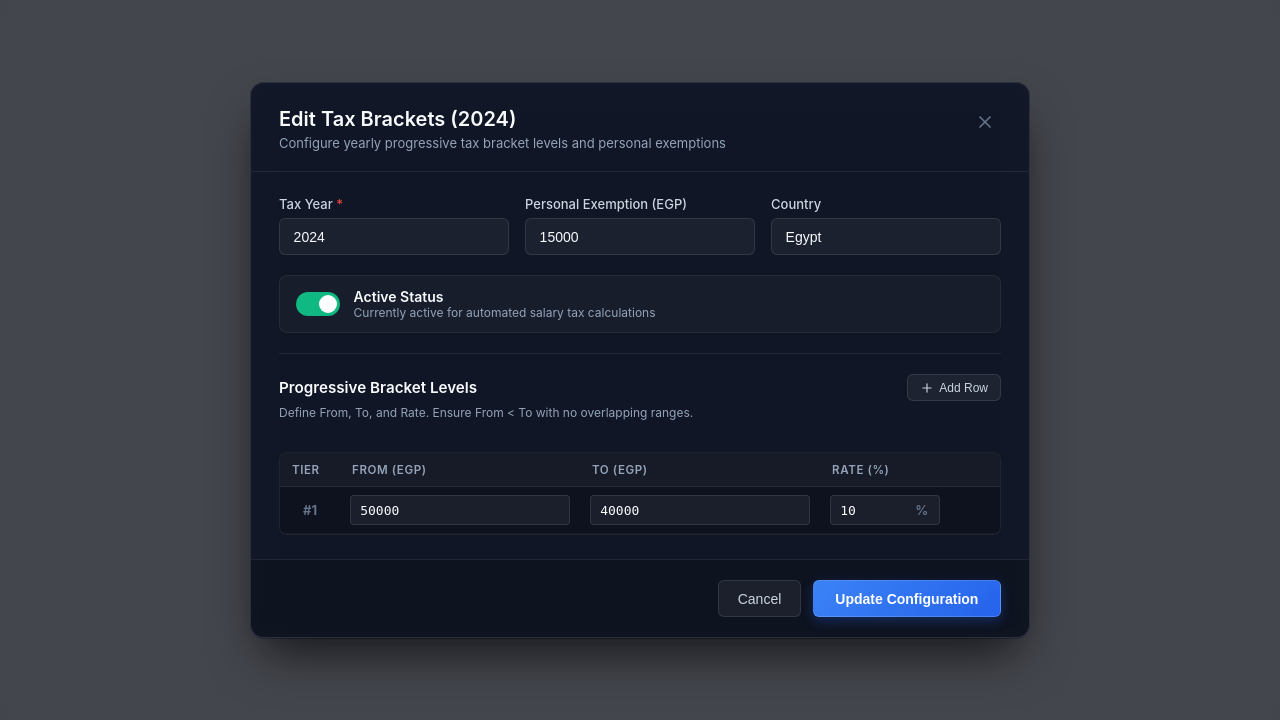
Test: TaxConfigModal Component › validates that To is greater than From
Click the button "Update Configuration" at (907,599), box x1=813 y1=580 x2=1001 y2=618
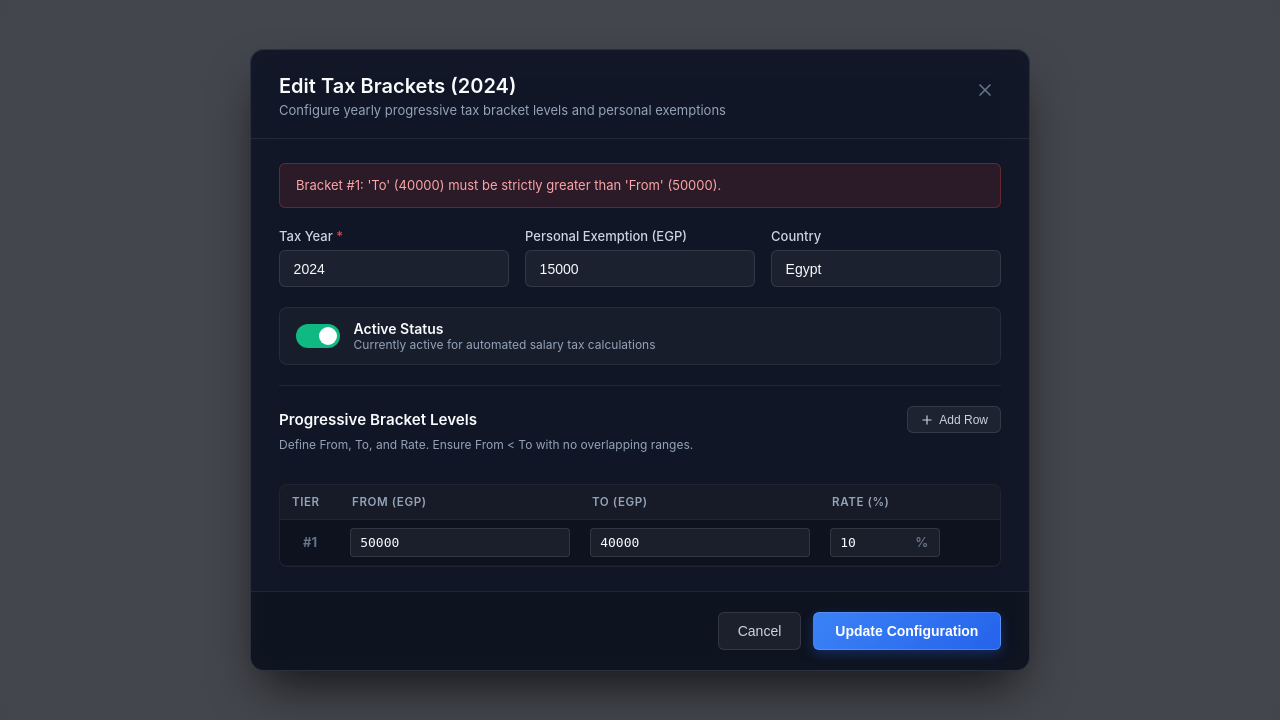
Expected: the message shows "'To' (40000) must be strictly greater than 'From' (50000)", x1=296 y1=177 x2=721 y2=193
